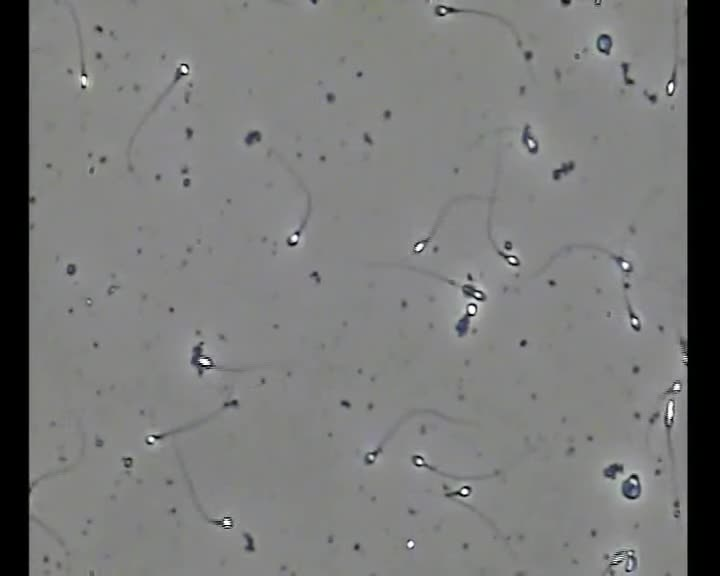spermhead: (621, 474, 641, 499), (521, 124, 538, 153), (462, 283, 486, 301), (595, 32, 612, 55), (198, 357, 219, 374), (664, 67, 676, 96), (663, 402, 675, 431), (433, 3, 457, 17), (603, 463, 624, 479), (455, 313, 469, 336), (625, 549, 637, 574), (617, 256, 632, 274), (286, 229, 301, 246), (175, 62, 190, 79), (629, 311, 641, 331), (605, 552, 620, 568), (363, 450, 378, 465), (455, 484, 471, 498), (414, 236, 426, 254), (411, 453, 426, 467), (504, 254, 519, 268), (465, 301, 478, 317), (78, 72, 89, 90), (678, 339, 686, 363), (218, 520, 232, 533), (145, 434, 160, 446), (669, 380, 680, 396), (671, 499, 680, 518), (121, 456, 133, 469), (223, 399, 239, 407), (503, 240, 512, 251), (407, 538, 415, 549), (29, 482, 36, 492), (593, 0, 601, 7)
